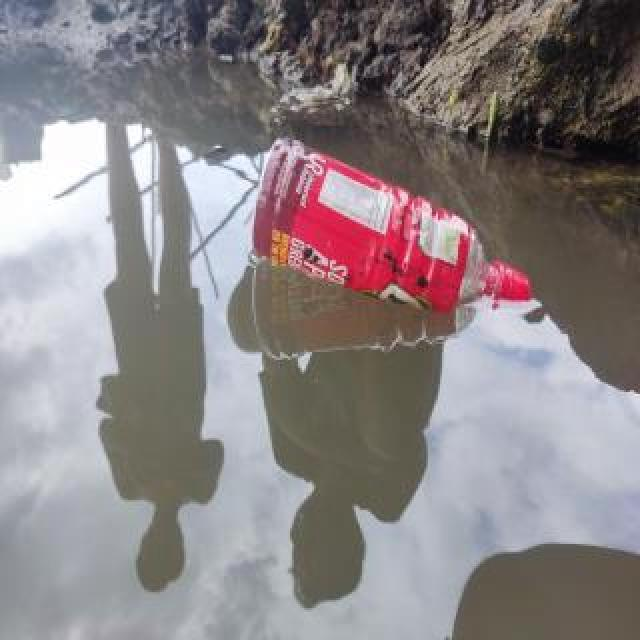bottle: (246, 132, 534, 318)
